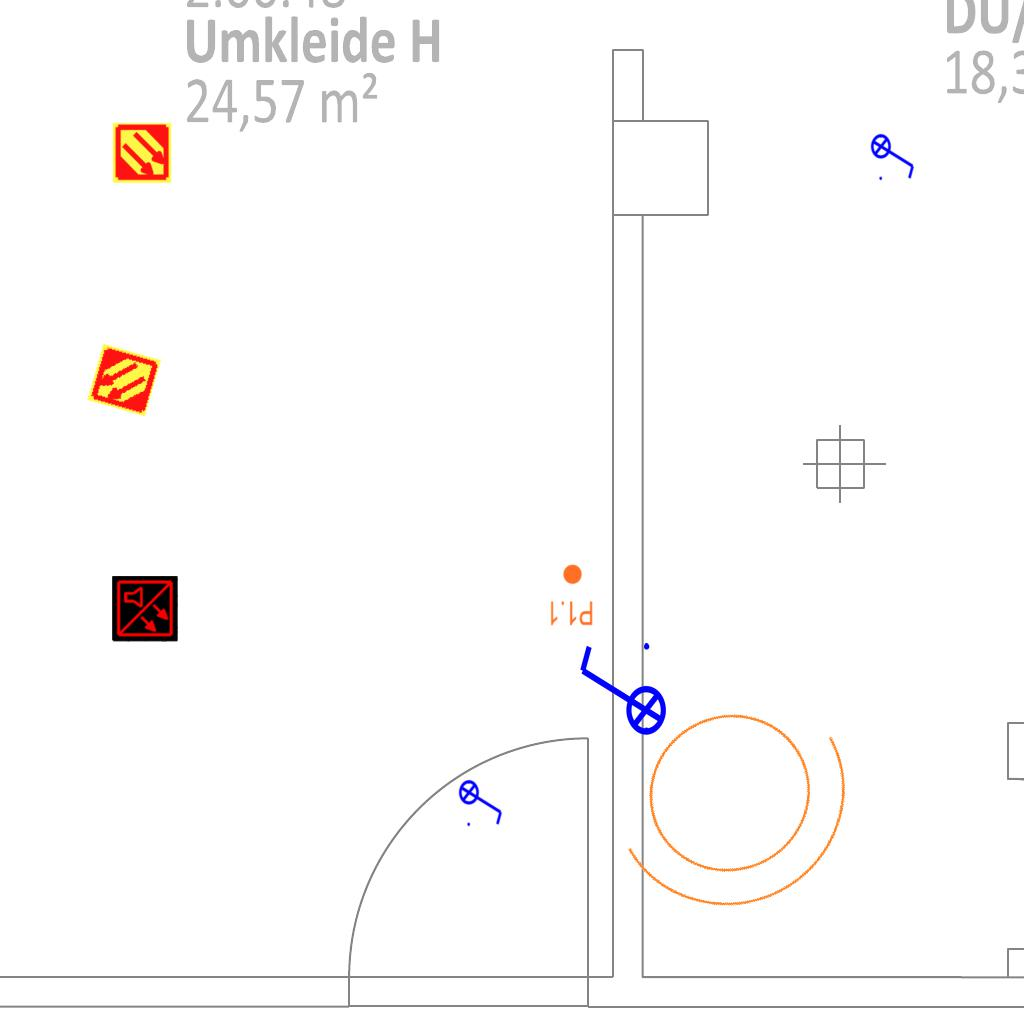ASR_Ansaugrauchmelder: (85, 341, 163, 419), (111, 122, 173, 184)
Ausschalter_beleuchtet: (572, 637, 668, 749), (870, 127, 918, 183), (458, 773, 506, 829)
Downlight_LED_Einbauleuchten_Flur: (548, 563, 594, 627)
OKW_Multisensormelder_(Kombination_optischer_Rauch-Kahlenmonoxid_Waerme-Melder): (112, 576, 178, 642)
Scheinwerfer_fuer_Alarmbeleuchtung: (570, 636, 910, 961)
